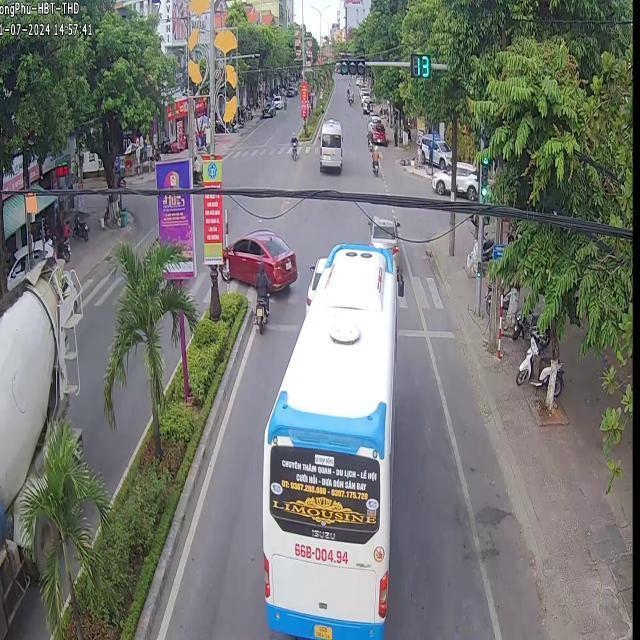car: (262, 242, 398, 636), (219, 227, 296, 289), (367, 214, 398, 265), (317, 118, 340, 171), (303, 256, 324, 311)
green_light: (478, 151, 488, 200), (338, 56, 364, 74), (478, 131, 487, 151)
motobike: (253, 260, 268, 331)
stop_line: (398, 327, 453, 334), (265, 319, 300, 328)
